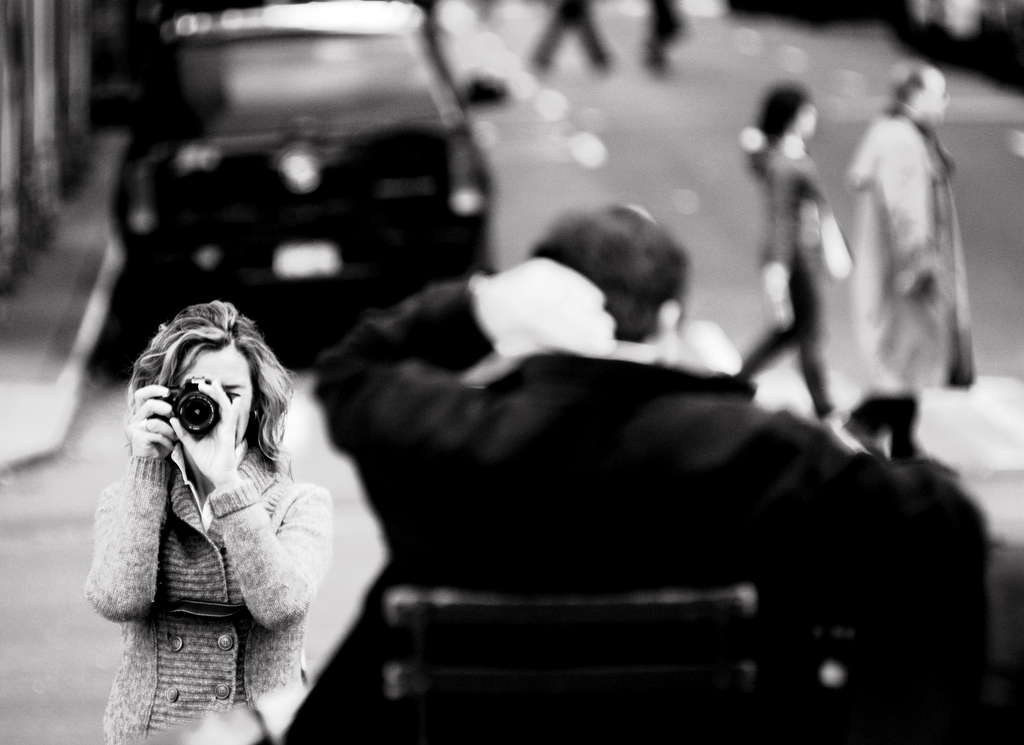Car: (113, 0, 494, 368)
